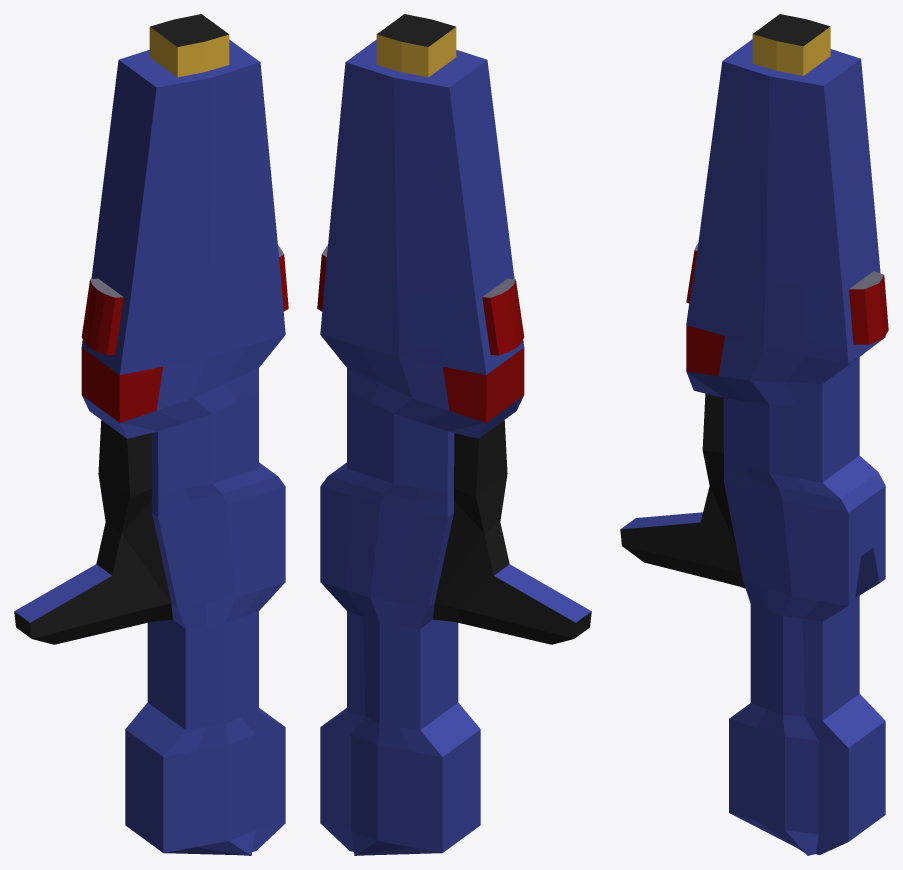
File: Varis_Normal.fbx
The picture shows the model from 3 angles, left to right: view 1: azimuth 30°, elevation 25°; view 2: azimuth 150°, elevation 25°; view 3: azimuth 330°, elevation 25°; orthographic projection. The views are drawn at different scales.
Parts seen in each view (by area): view 1: Varis_Normal; view 2: Varis_Normal; view 3: Varis_Normal.
Part boxes in pixels (bbox=[...]): Varis_Normal: bbox=[14, 14, 288, 855]; Varis_Normal: bbox=[317, 14, 591, 855]; Varis_Normal: bbox=[620, 14, 888, 855].
Size of the model in its own units: 1.9 by 5.69 by 0.576.
